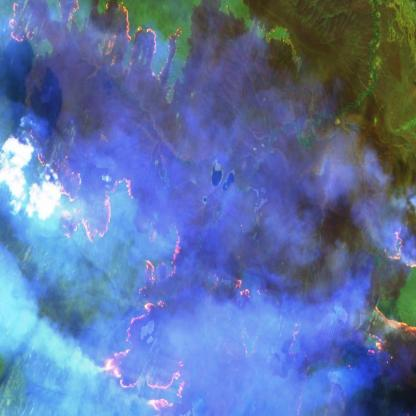fire: (5, 0, 186, 245), (100, 247, 189, 416), (364, 223, 416, 364)
